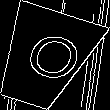O_S: (9, 27, 80, 90)
